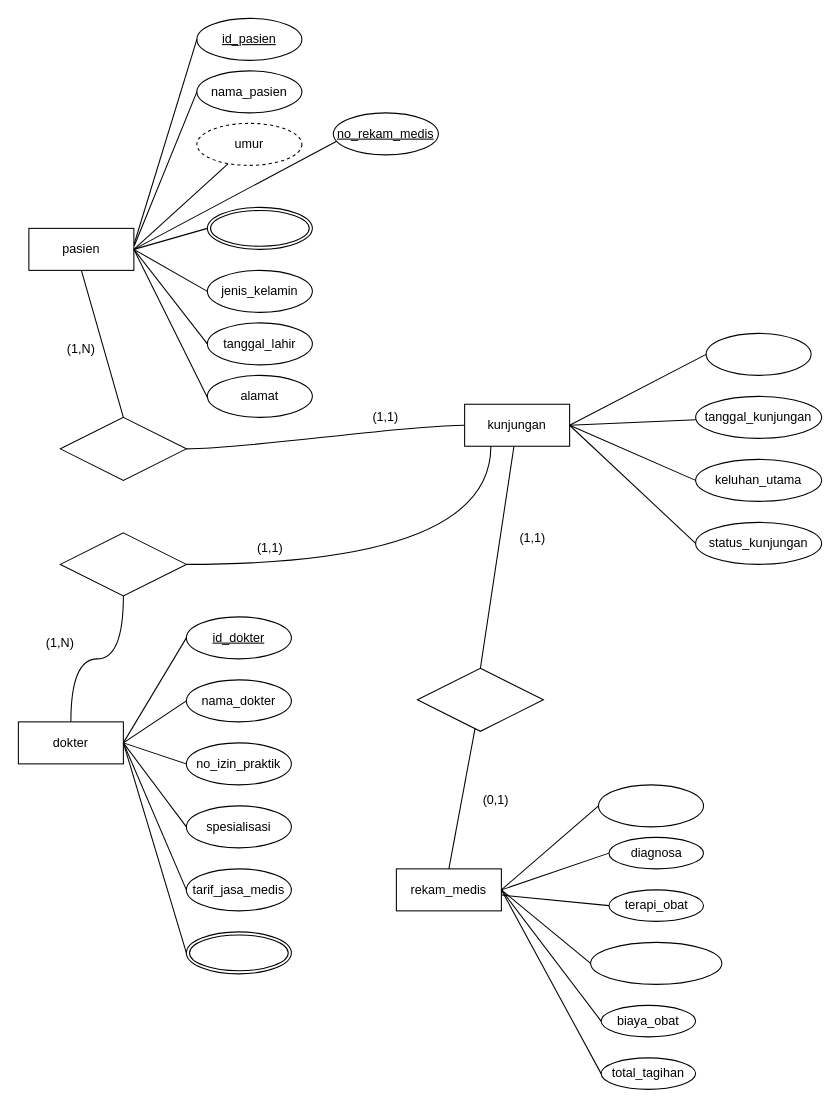
Image size: 840x1108. Some labels were removed from this diagram. Each missing label, with the centre of its shape:
"biaya_jasa_dokter" belongs at pixel 656 962.
"hari_praktik" belongs at pixel 238 952.
"id_kunjungan" belongs at pixel 758 353.
"id_rekam_medis" belongs at pixel 650 805.
"Melakukan" belongs at pixel 122 448.
"Memiliki" belongs at pixel 479 699.
"Menerima" belongs at pixel 122 564.
"{no_telp}" belongs at pixel 259 227.
